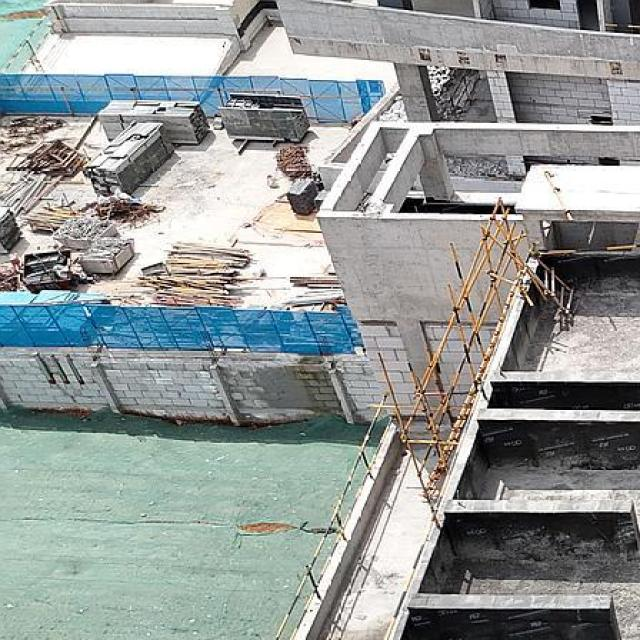edge_guardrail: (381, 268, 524, 640), (271, 390, 394, 640), (437, 69, 480, 122), (537, 243, 640, 256), (604, 22, 640, 29)
